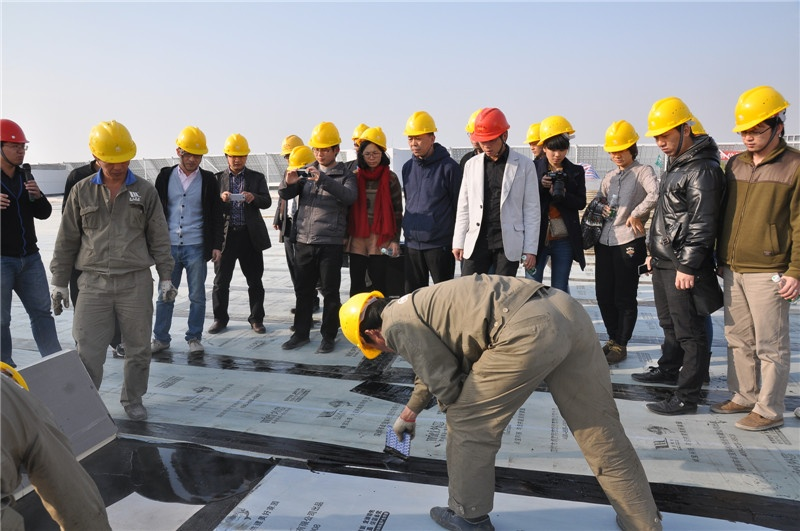red: (470, 103, 508, 156), (1, 116, 28, 168)
yellow: (733, 83, 787, 154), (339, 290, 393, 360), (86, 119, 137, 180), (644, 94, 694, 155), (601, 119, 641, 168), (402, 110, 436, 163), (174, 123, 208, 171), (308, 119, 342, 167), (538, 115, 571, 163), (356, 127, 388, 171), (222, 134, 252, 172), (280, 132, 302, 163), (524, 124, 543, 155)
